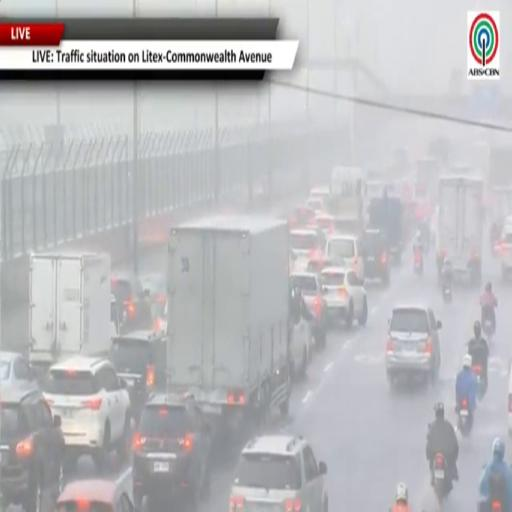car: (43, 356, 131, 468), (133, 393, 211, 509), (230, 435, 328, 511), (0, 389, 61, 511), (109, 331, 166, 419), (386, 304, 441, 386), (321, 267, 368, 328), (291, 272, 327, 347), (57, 478, 134, 511), (111, 272, 152, 331), (325, 234, 364, 281), (290, 309, 314, 380), (361, 229, 390, 285), (0, 351, 38, 390), (141, 274, 167, 331), (289, 229, 324, 271), (140, 274, 167, 305), (497, 226, 511, 280), (289, 206, 315, 229), (306, 256, 335, 274), (111, 295, 123, 338), (316, 213, 335, 235), (306, 198, 325, 215), (309, 186, 330, 201), (508, 363, 511, 438)
motorcycle: (434, 454, 451, 505), (482, 306, 495, 344), (458, 399, 471, 437), (472, 365, 486, 399), (482, 317, 494, 344), (442, 281, 453, 304), (414, 250, 423, 276), (490, 499, 504, 512)
truck: (167, 216, 291, 431), (29, 252, 112, 371), (436, 175, 484, 284), (327, 167, 365, 234), (367, 195, 404, 262), (488, 146, 511, 188)
